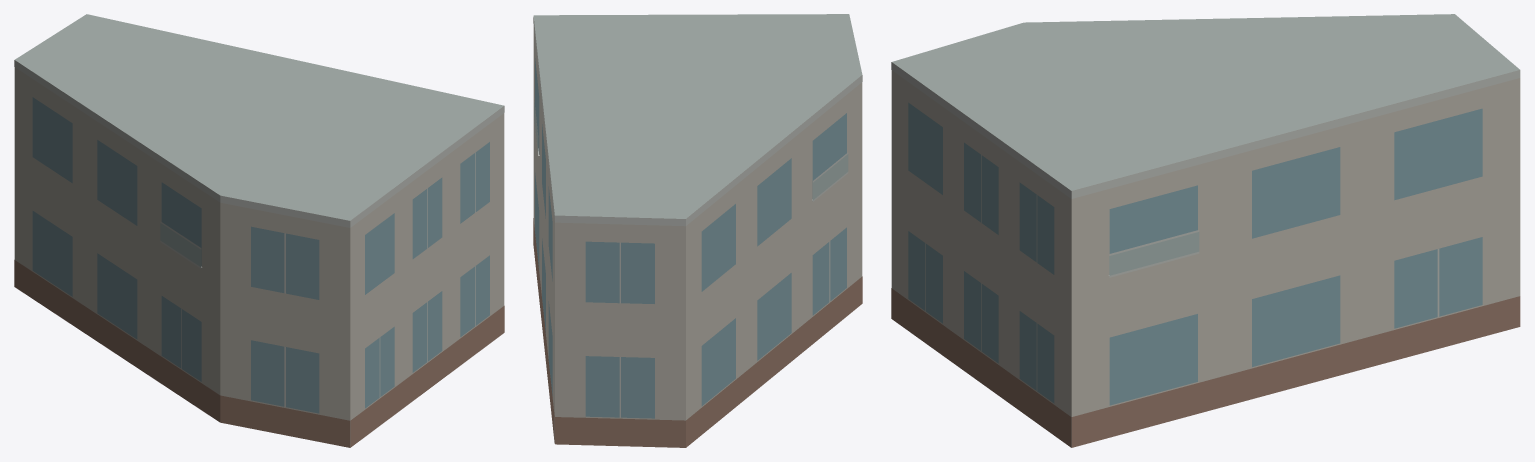
The model's file is survey-upis-32760941.glb.
3 views of the same model, side by side, from view 1: azimuth 30°, elevation 25°; view 2: azimuth 150°, elevation 25°; view 3: azimuth 270°, elevation 25° (orthographic). The views are drawn at different scales.
Parts seen in each view (by area): view 1: survey-upis-32760941.tmp; view 2: survey-upis-32760941.tmp; view 3: survey-upis-32760941.tmp.
Part boxes in pixels (bbox=[...]): survey-upis-32760941.tmp: bbox=[14, 14, 504, 447]; survey-upis-32760941.tmp: bbox=[533, 14, 862, 447]; survey-upis-32760941.tmp: bbox=[891, 14, 1520, 447].
Bounding box in the file's own units: 11.54 × 7.8 × 17.31.
